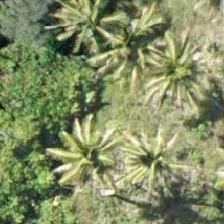Kelapa_Sawit: (115, 70, 205, 160), (54, 125, 144, 215), (135, 27, 224, 117), (38, 0, 128, 73)
